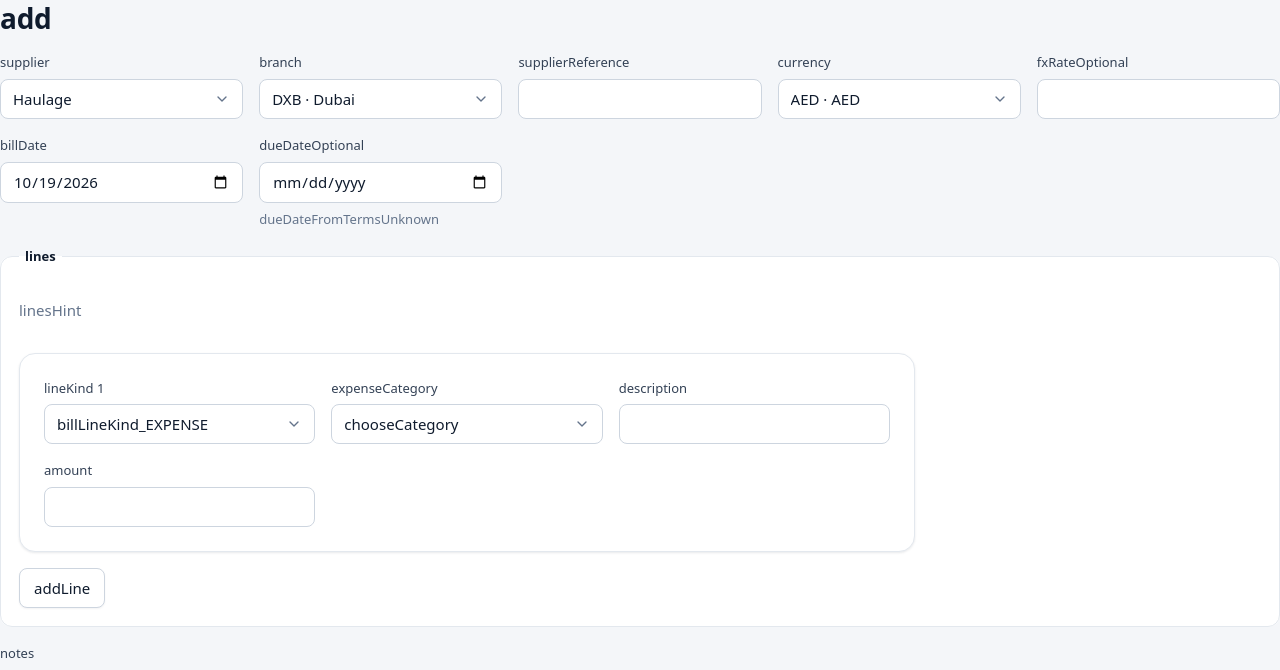
Scenario: SupplierBillForm defaults (functional review C1, C2, C4, C9, C10) › offers the trips' other currencies without picking one
Step 1. Select "Haulage" in the dropdown labelled "supplier" → (122, 99), box [0,79,243,119]
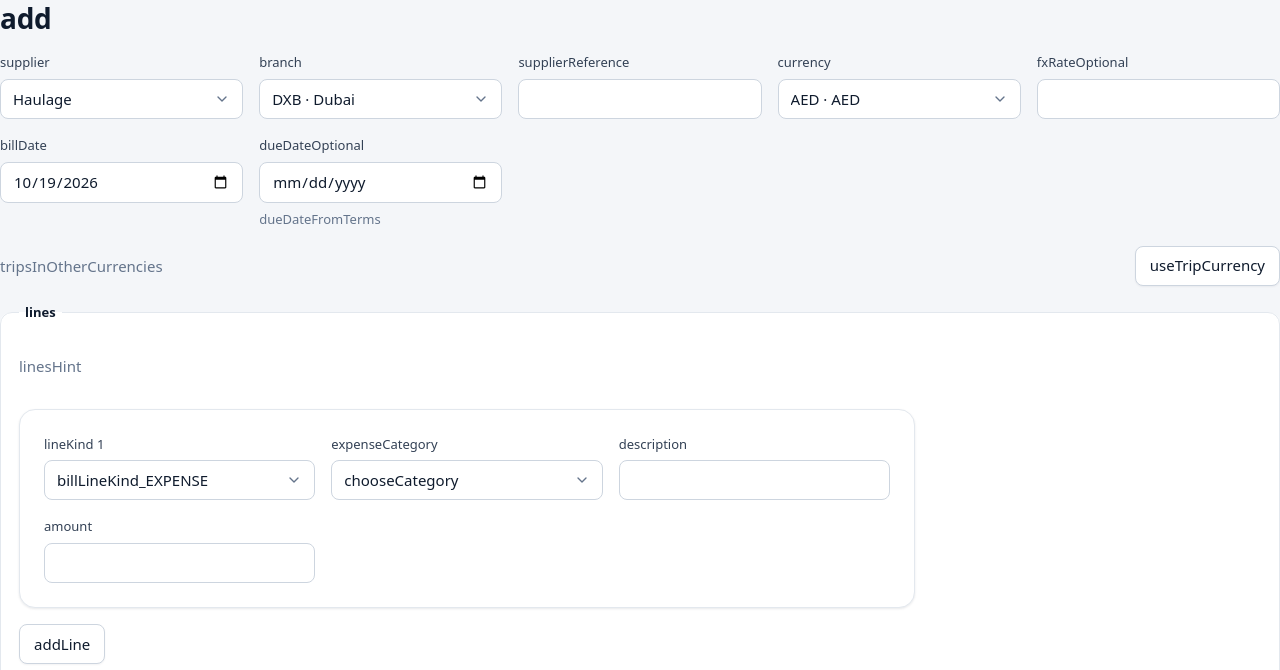
Expected: the dropdown labelled "currency" shows "AED · AED", [778,79,1021,119]
Step 2. Click the button "useTripCurrency" → (1207, 266), box [1135,246,1279,286]
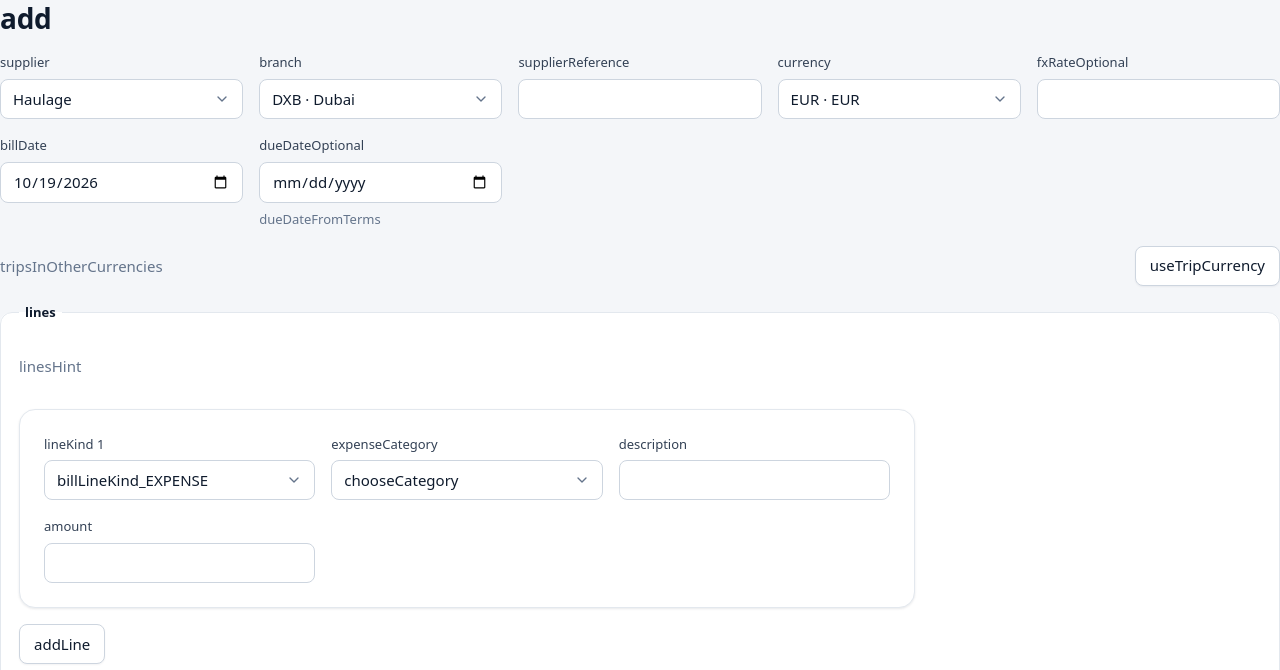
Result: the dropdown labelled "currency" shows "EUR · EUR" at [778,79,1021,119]
